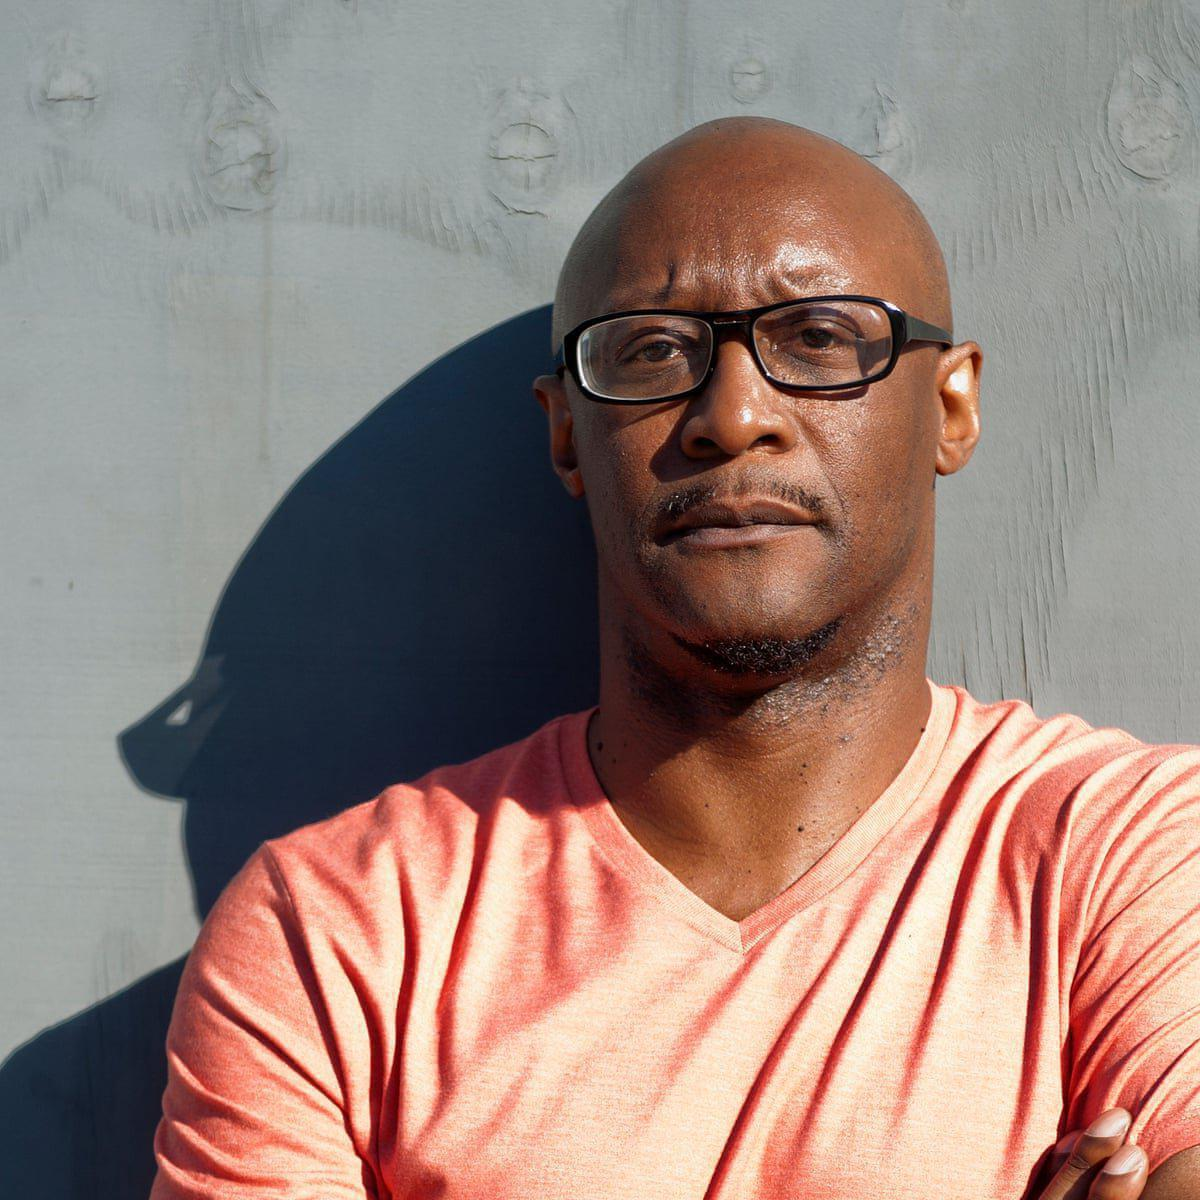Sober: (586, 178, 929, 627)
